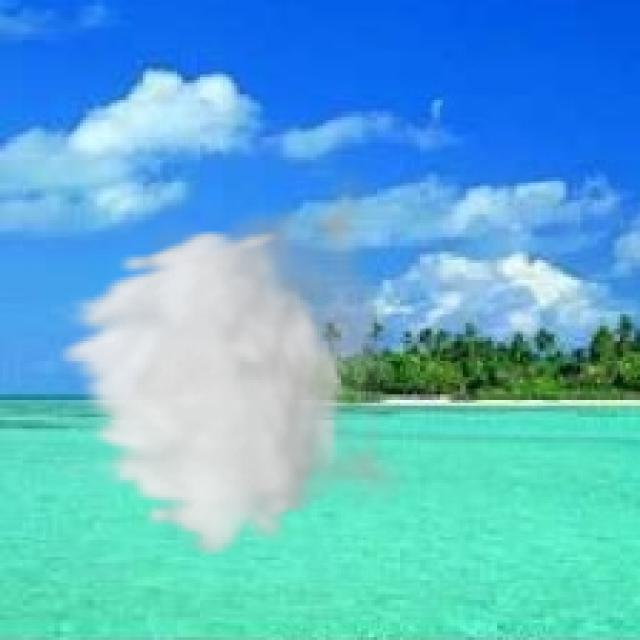Smoke: (52, 157, 414, 560)
